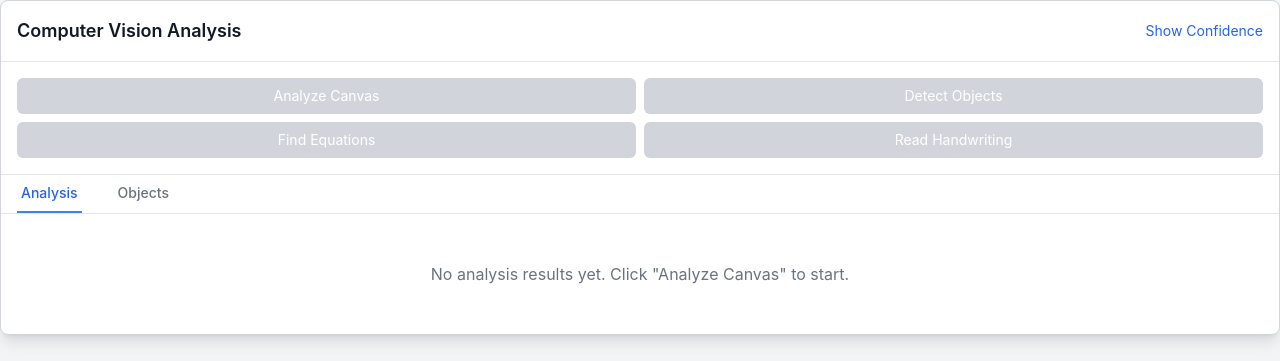
Scenario: ComputerVisionPanel › should switch between tabs
expect the text "No analysis results yet. Click \"Analyze Canvas\" to start." is shown: met, box [431,264,849,284]
# Switch to Objects tab
Click the button "Objects".
click(143, 194)  # box [114,175,173,213]
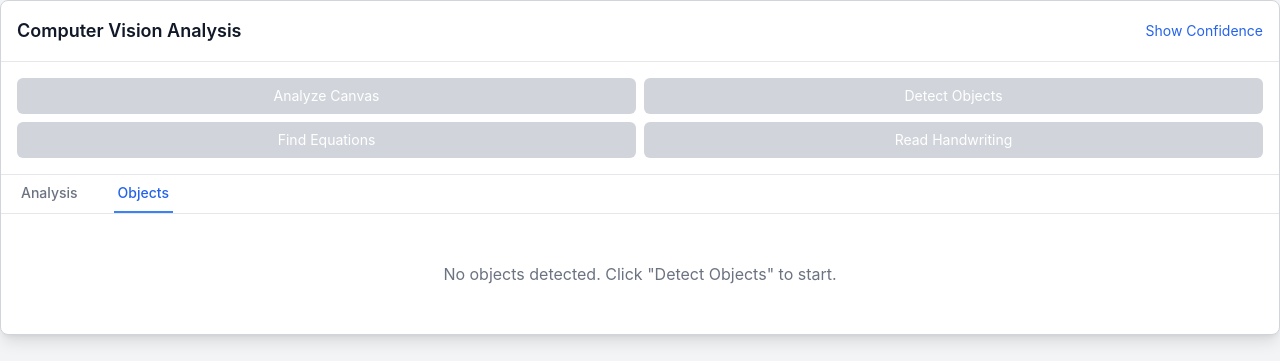
expect the text "No objects detected. Click \"Detect Objects\" to start." is shown: met, box [443,264,837,284]
# Switch back to Analysis tab
Click the button "Analysis".
click(49, 194)  # box [17,175,82,213]
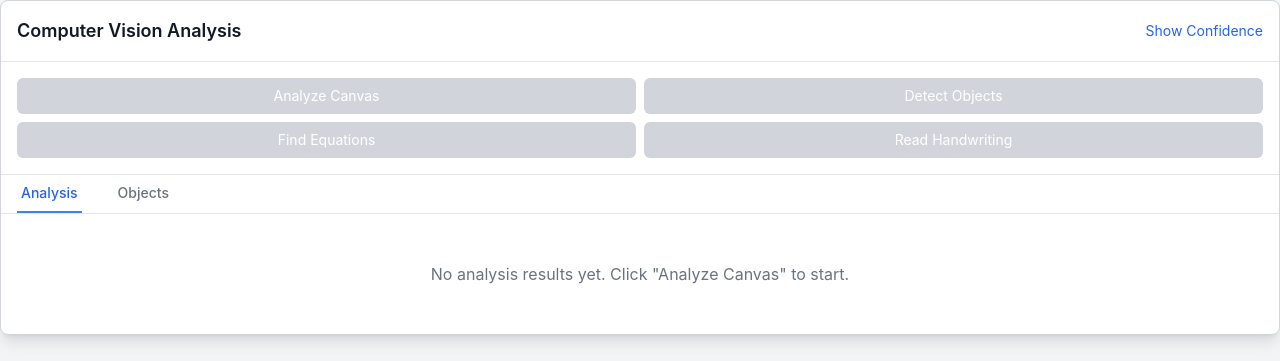
expect the text "No analysis results yet. Click \"Analyze Canvas\" to start." is shown: met, box [431,264,849,284]
